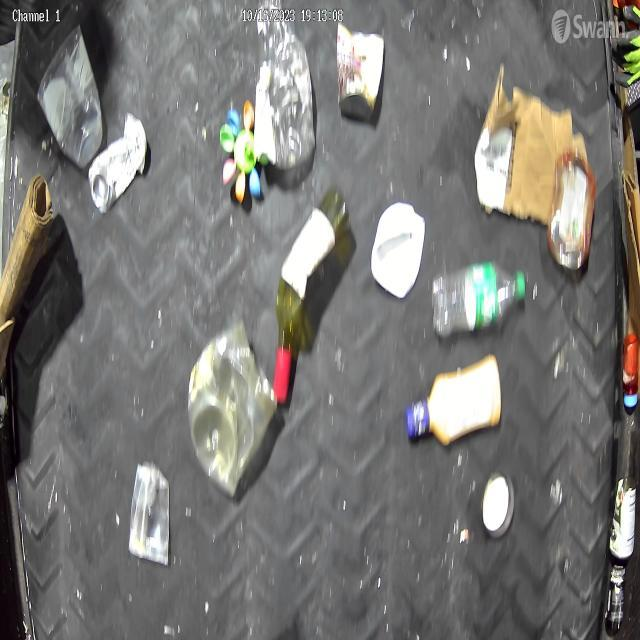can: (86, 110, 149, 215), (547, 149, 596, 279), (334, 20, 387, 121), (608, 472, 638, 562), (479, 468, 516, 538), (602, 563, 626, 631)
plastic_bottle: (252, 0, 318, 171), (430, 258, 528, 338)
